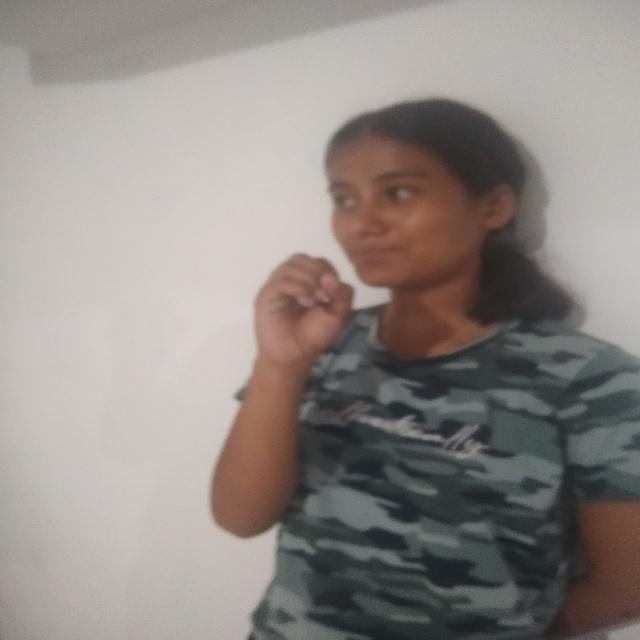Fist Mouth: (246, 76, 534, 387)
